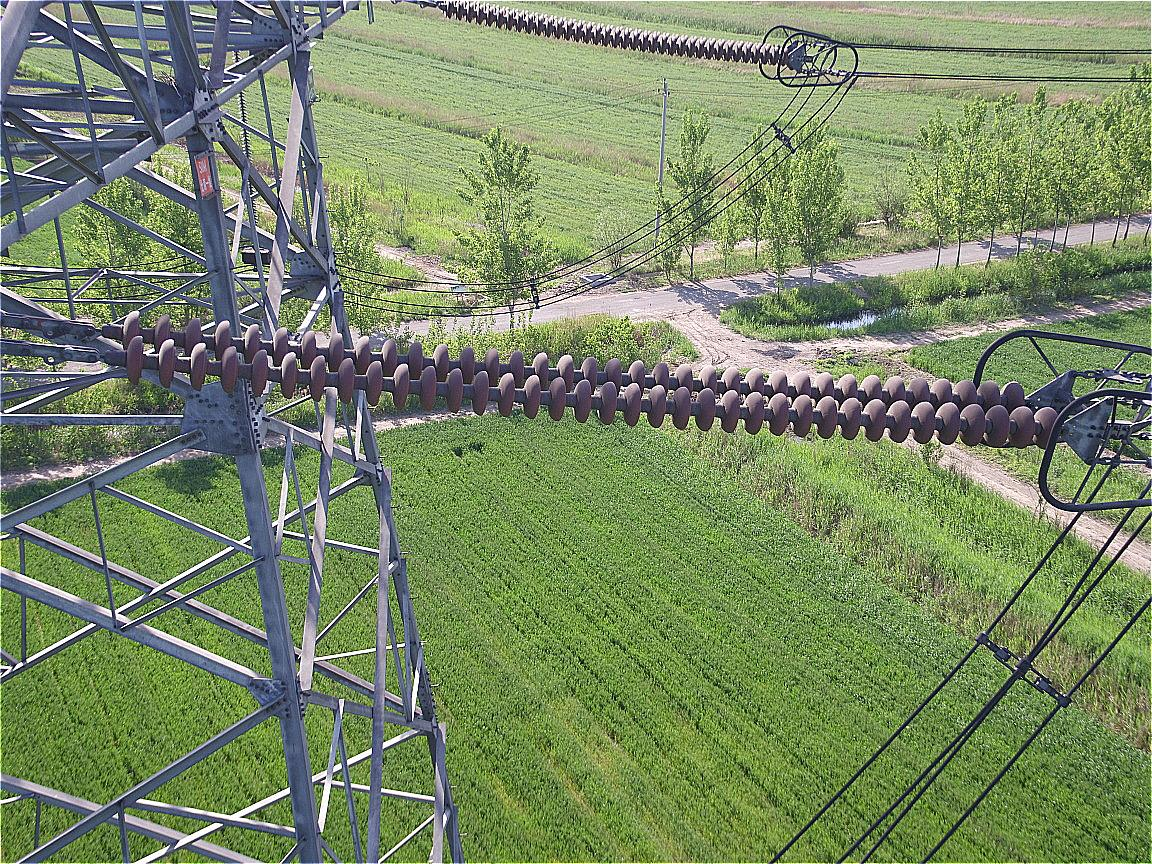insultor1: (122, 308, 1062, 448)
